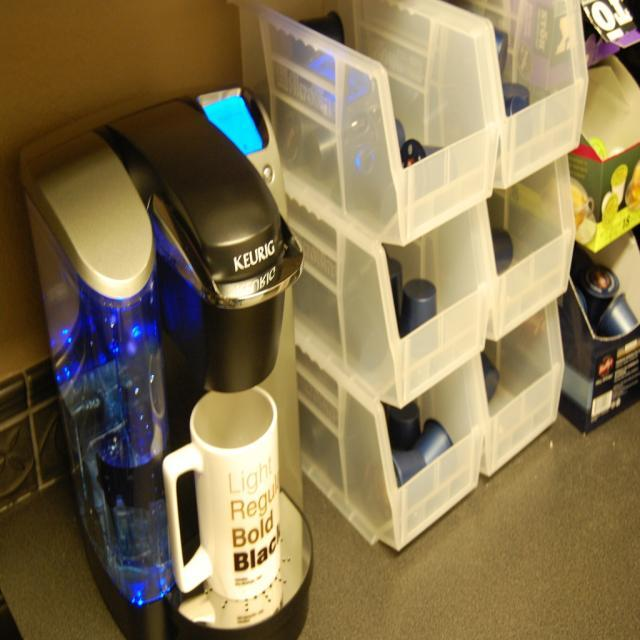Coffee-Machine: (19, 76, 315, 640)
